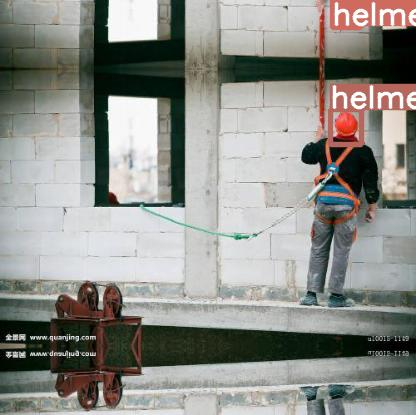helmet: (330, 109, 361, 144), (332, 0, 360, 27)
